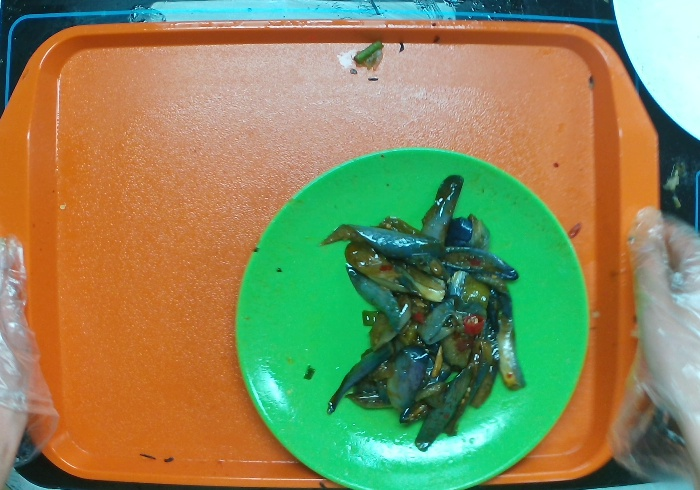HZYJPL-Lv_Se_Yuan_Pan: (234, 144, 590, 490)
